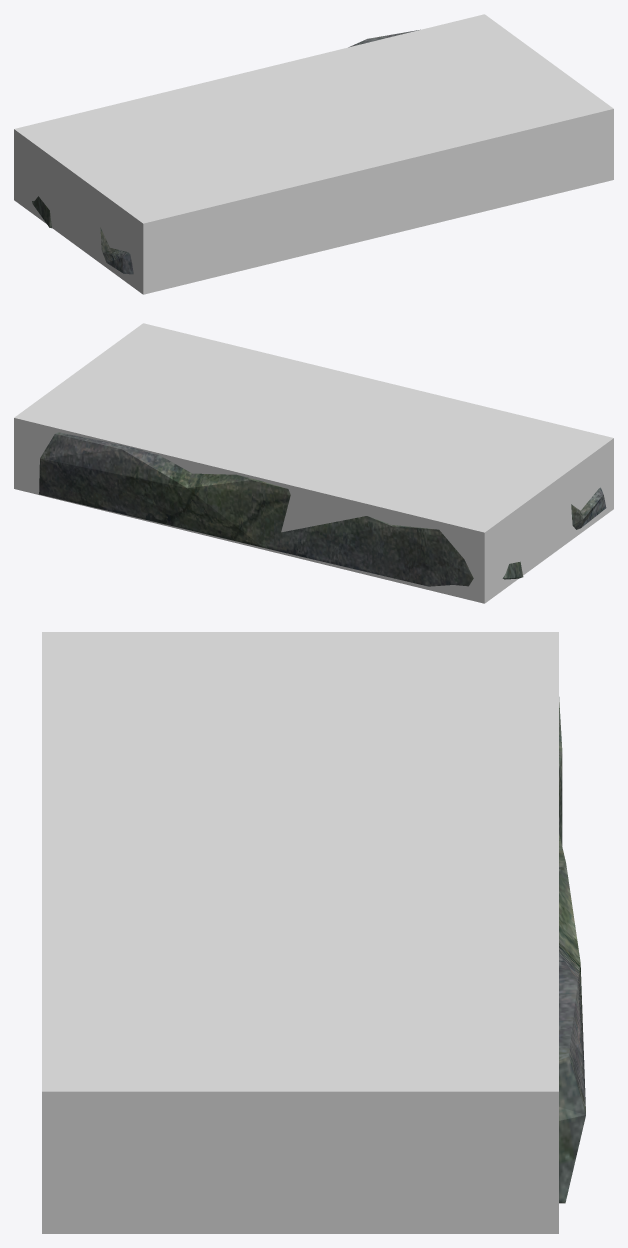
Rendered from Scene_Object_ShiDun_4.FBX.
The picture shows the model from 3 angles, top to bottom: view 1: azimuth 30°, elevation 25°; view 2: azimuth 150°, elevation 25°; view 3: azimuth 270°, elevation 25°; orthographic projection. The views are drawn at different scales.
Parts seen in each view (by area): view 1: Scene_Object_ShiDun_4_Xzm, Scene_Object_ShiDun_4; view 2: Scene_Object_ShiDun_4_Xzm, Scene_Object_ShiDun_4; view 3: Scene_Object_ShiDun_4_Xzm, Scene_Object_ShiDun_4.
Part boxes in pixels (x1=…): Scene_Object_ShiDun_4_Xzm: x1=14, y1=14, x2=613, y2=294; Scene_Object_ShiDun_4: x1=32, y1=29, x2=420, y2=274; Scene_Object_ShiDun_4_Xzm: x1=14, y1=323, x2=613, y2=603; Scene_Object_ShiDun_4: x1=39, y1=432, x2=606, y2=586; Scene_Object_ShiDun_4_Xzm: x1=42, y1=632, x2=558, y2=1233; Scene_Object_ShiDun_4: x1=559, y1=697, x2=585, y2=1203.
Size of the model in its own units: 339 by 48.43 by 167.
